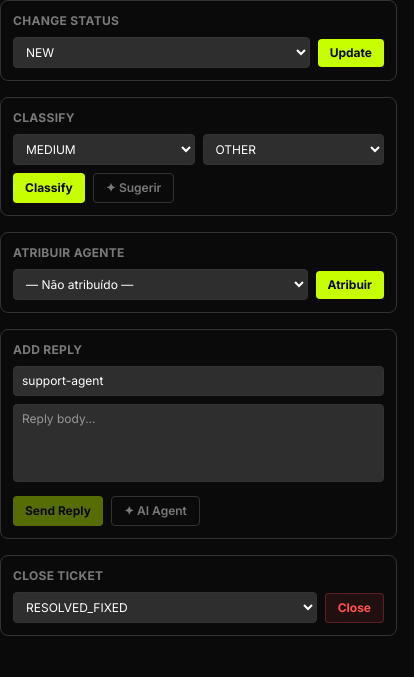
Test case: ActionButtons — AI classify suggest › clears reasoning banner when Classify is clicked manually after suggest
The image size is (414, 677).
Click the button titled "sugerir categoria e prioridade" at (134, 188), box [93,173,174,203]
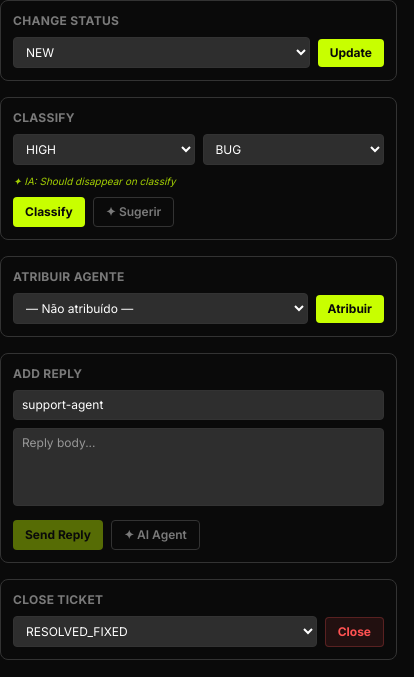
Expected: the text "✦ IA: Should disappear on classify" is shown, [13,175,176,187]
Click the button "Classify" at (49, 212), box [13,197,85,227]
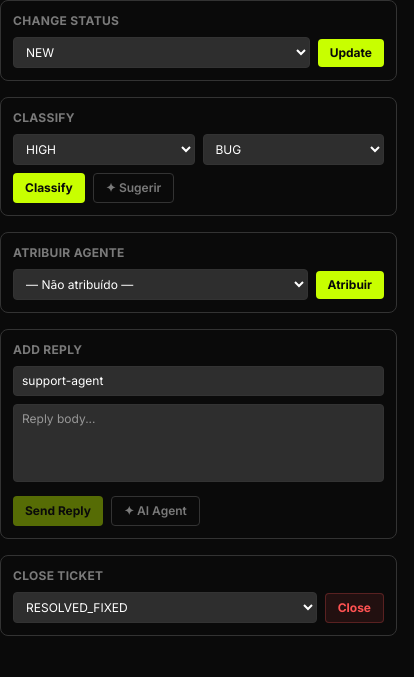
Expected: the text "Should disappear on classify" is gone
